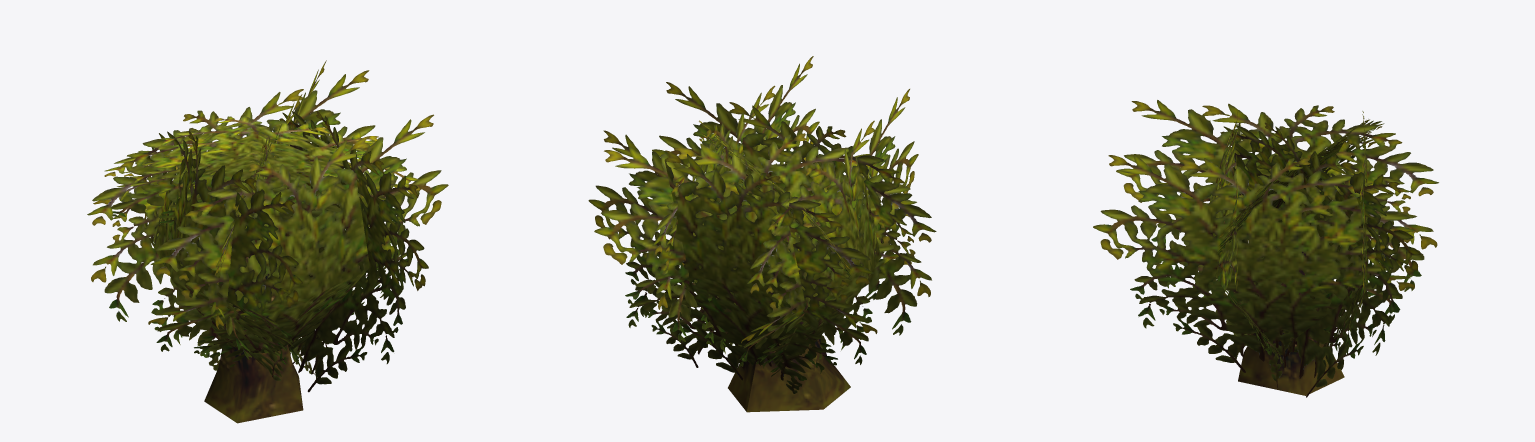
File: tree03_01.FBX
The picture shows the model from 3 angles, left to right: view 1: azimuth 30°, elevation 25°; view 2: azimuth 150°, elevation 25°; view 3: azimuth 270°, elevation 25°; orthographic projection. The views are drawn at different scales.
Visible parts, largest first — view 1: SH_Tree01, SH_Tree02; view 2: SH_Tree01, SH_Tree02; view 3: SH_Tree01, SH_Tree02.
Part boxes in pixels (x1=…): SH_Tree01: x1=87, y1=60, x2=448, y2=392; SH_Tree02: x1=204, y1=240, x2=303, y2=423; SH_Tree01: x1=588, y1=56, x2=936, y2=393; SH_Tree02: x1=728, y1=221, x2=850, y2=412; SH_Tree01: x1=1093, y1=100, x2=1438, y2=397; SH_Tree02: x1=1238, y1=252, x2=1344, y2=395.
Bounding box in the file's own units: 1.33 × 0.8426 × 1.39.
Materials: 2 (2 with a texture image).
